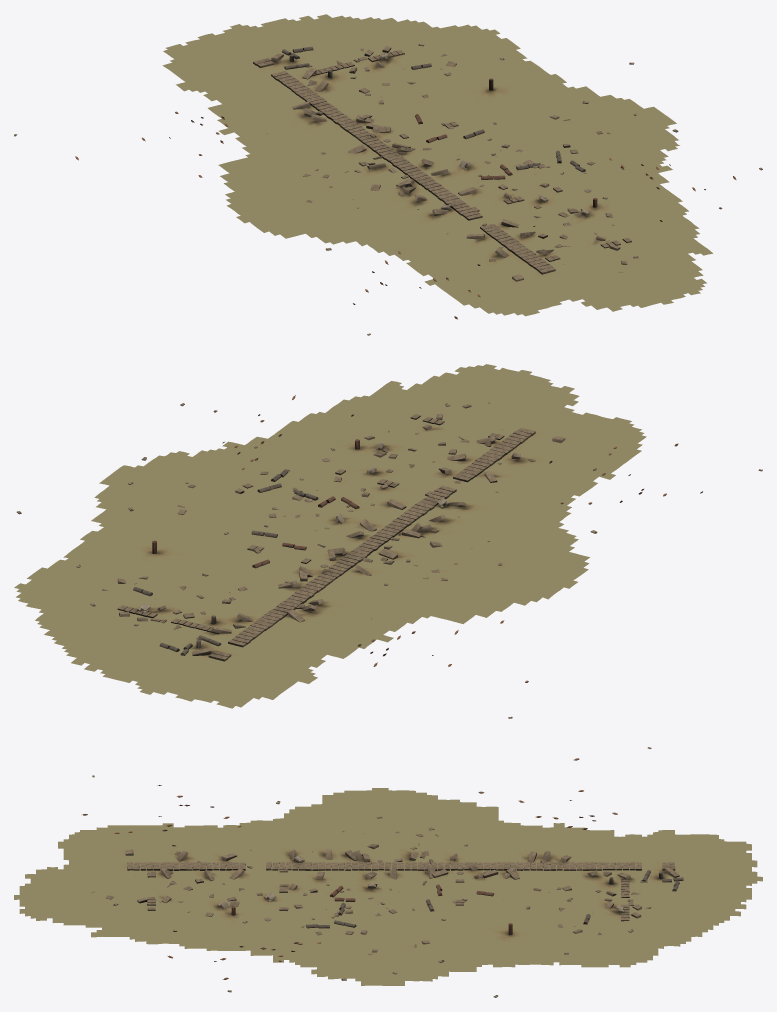
3 views of the same model, one above another, from view 1: azimuth 30°, elevation 25°; view 2: azimuth 150°, elevation 25°; view 3: azimuth 270°, elevation 25° (orthographic). The views are drawn at different scales.
Visible parts, largest first — view 1: sediment, serapeum, blocks, columns; view 2: sediment, serapeum, blocks, columns; view 3: sediment, serapeum, blocks, columns.
Boxes of the visible parts, bbox=[...] form: sediment: bbox=[162, 14, 712, 316]; serapeum: bbox=[253, 46, 631, 274]; blocks: bbox=[303, 48, 627, 281]; columns: bbox=[282, 46, 597, 207]; sediment: bbox=[14, 364, 646, 708]; serapeum: bbox=[117, 414, 535, 661]; blocks: bbox=[102, 401, 565, 640]; columns: bbox=[133, 439, 359, 655]; sediment: bbox=[14, 788, 762, 985]; serapeum: bbox=[127, 849, 679, 921]; blocks: bbox=[91, 816, 651, 955]; columns: bbox=[231, 870, 683, 934].
Bounding box in the file's own units: 108 × 3.42 × 136.
Materials: 3 (1 with a texture image).
